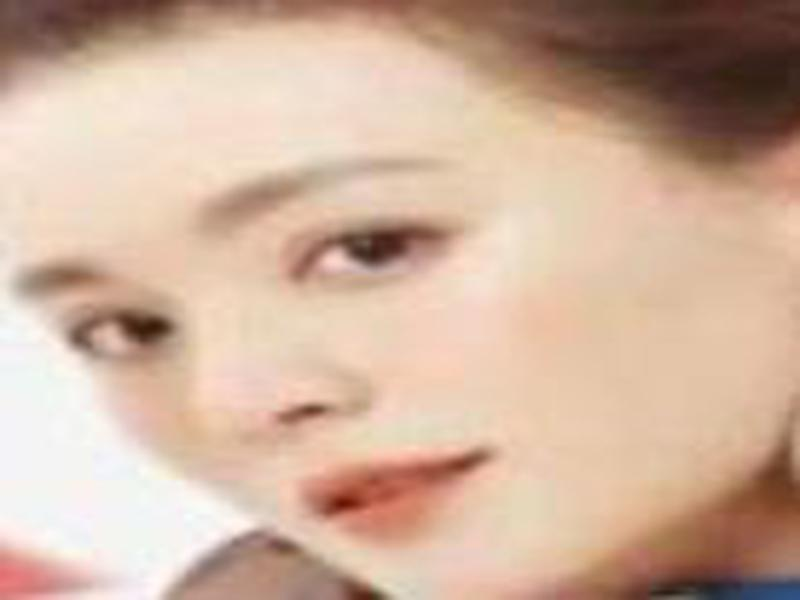without_mask: (12, 10, 782, 595)
